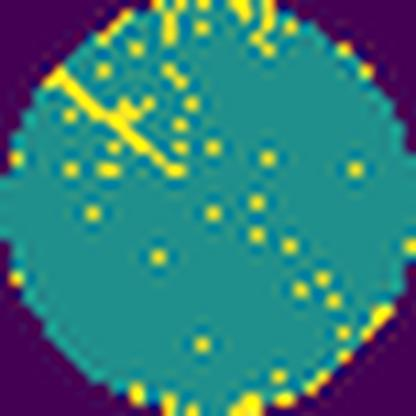Scratch: (38, 65, 189, 182)
